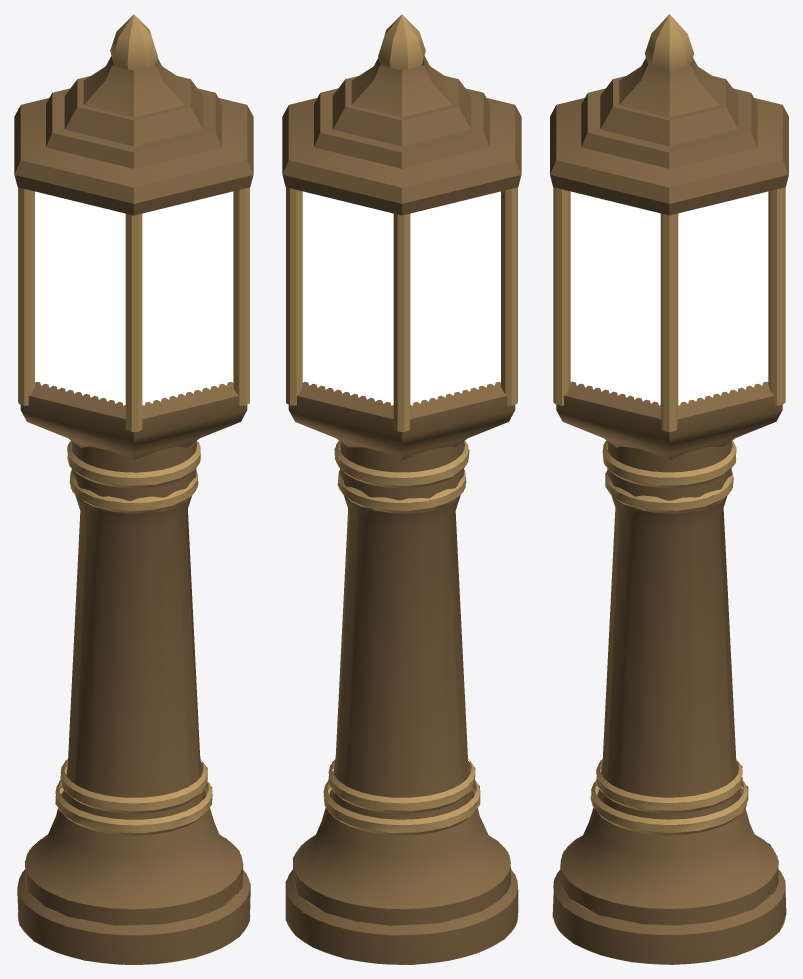
File: LanternLOD1.fbx
3 renders of one model, left to right at view 1: azimuth 30°, elevation 25°; view 2: azimuth 150°, elevation 25°; view 3: azimuth 270°, elevation 25°, orthographic.
Parts seen in each view (by area): view 1: Lantern.001; view 2: Lantern.001; view 3: Lantern.001.
Boxes of the visible parts, x1,y1,x2,y2 form: Lantern.001: (14,14,253,964); Lantern.001: (282,14,521,964); Lantern.001: (550,14,788,964).
Bounding box in the file's own units: 38 × 137 × 32.91.
